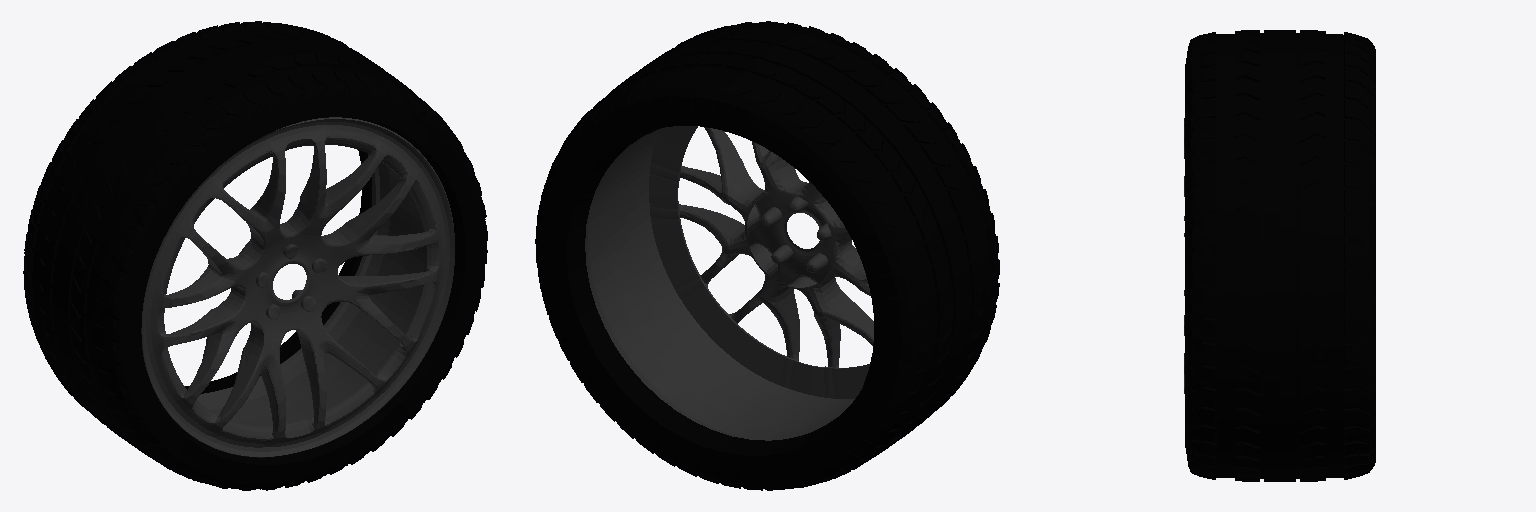
Rendered from wheel_l.obj.
3 views of the same model, side by side, from view 1: azimuth 30°, elevation 25°; view 2: azimuth 150°, elevation 25°; view 3: azimuth 270°, elevation 25° (orthographic).
Visible parts, largest first — view 1: Tire3_TireBolts_Dupli_001; view 2: Tire3_TireBolts_Dupli_001; view 3: Tire3_TireBolts_Dupli_001.
Part boxes in pixels (x1,y1,x2,y2): Tire3_TireBolts_Dupli_001: (23,21,487,490); Tire3_TireBolts_Dupli_001: (535,21,999,490); Tire3_TireBolts_Dupli_001: (1184,30,1375,481).
Bounding box in the file's own units: 0.9825 × 0.9826 × 0.4185.